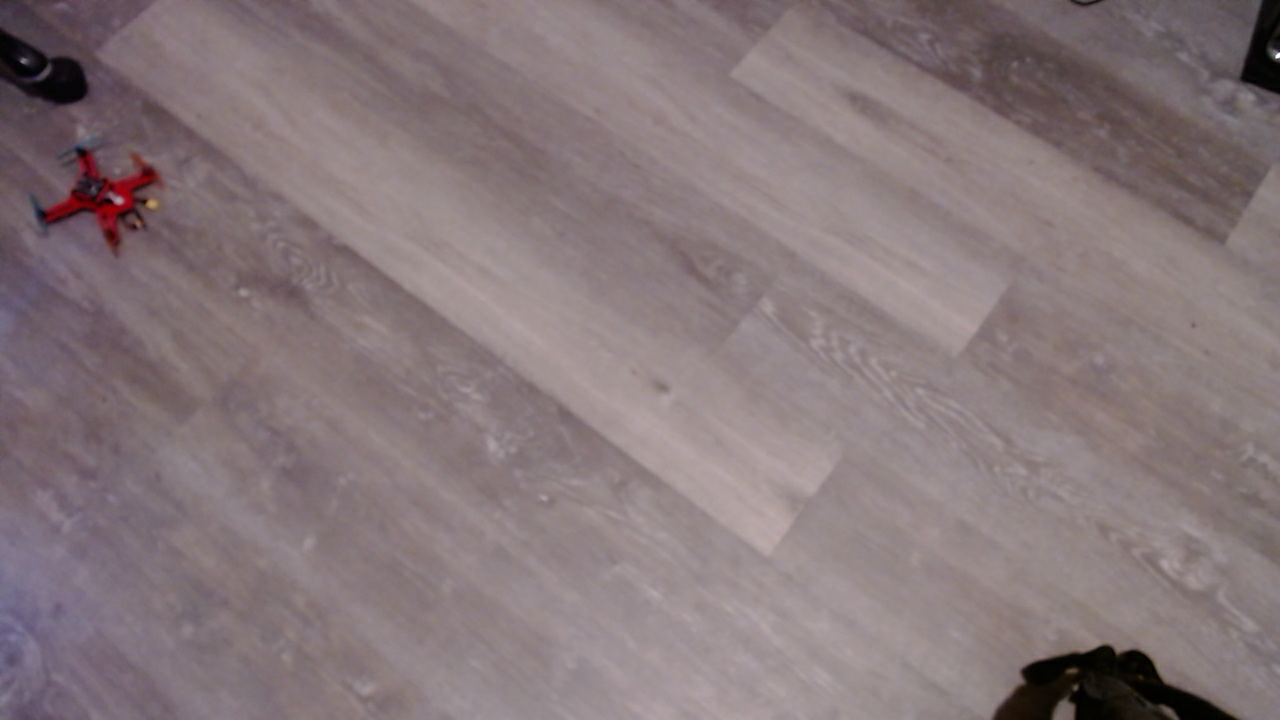crazyflie: (36, 136, 180, 266)
